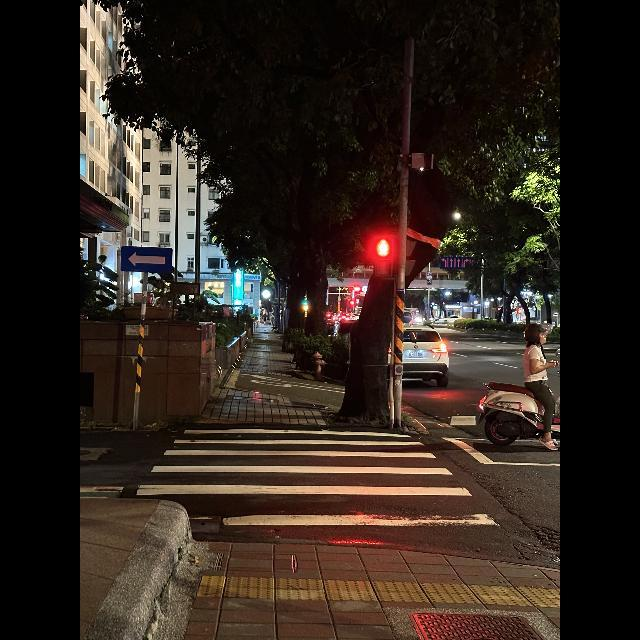sidewalk: (128, 425, 530, 565)
